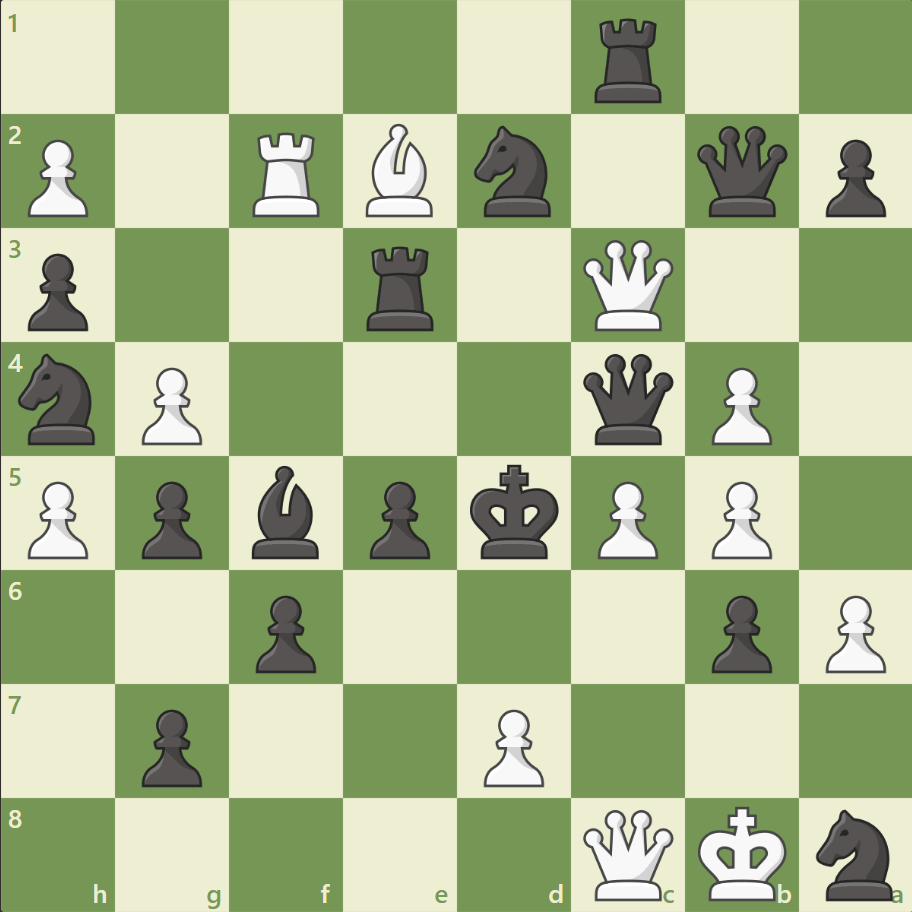B: (358, 120, 442, 222)
K: (692, 798, 792, 906)
P: (474, 700, 549, 791), (701, 473, 776, 564), (20, 473, 95, 564), (701, 359, 776, 450), (133, 359, 208, 450), (20, 132, 95, 223), (815, 586, 889, 677), (588, 473, 662, 564)
Q: (578, 804, 677, 903), (578, 236, 677, 335)
R: (246, 125, 329, 222)
b: (244, 460, 328, 563)
k: (465, 458, 565, 566)
n: (806, 802, 903, 904), (11, 348, 108, 450), (465, 121, 562, 223)
p: (133, 700, 208, 791), (701, 586, 776, 677), (247, 586, 322, 677), (133, 473, 208, 564), (20, 246, 95, 337), (361, 473, 435, 564), (815, 132, 889, 223)
q: (578, 349, 677, 449), (691, 122, 790, 222)
r: (587, 12, 670, 109), (360, 239, 442, 336)
